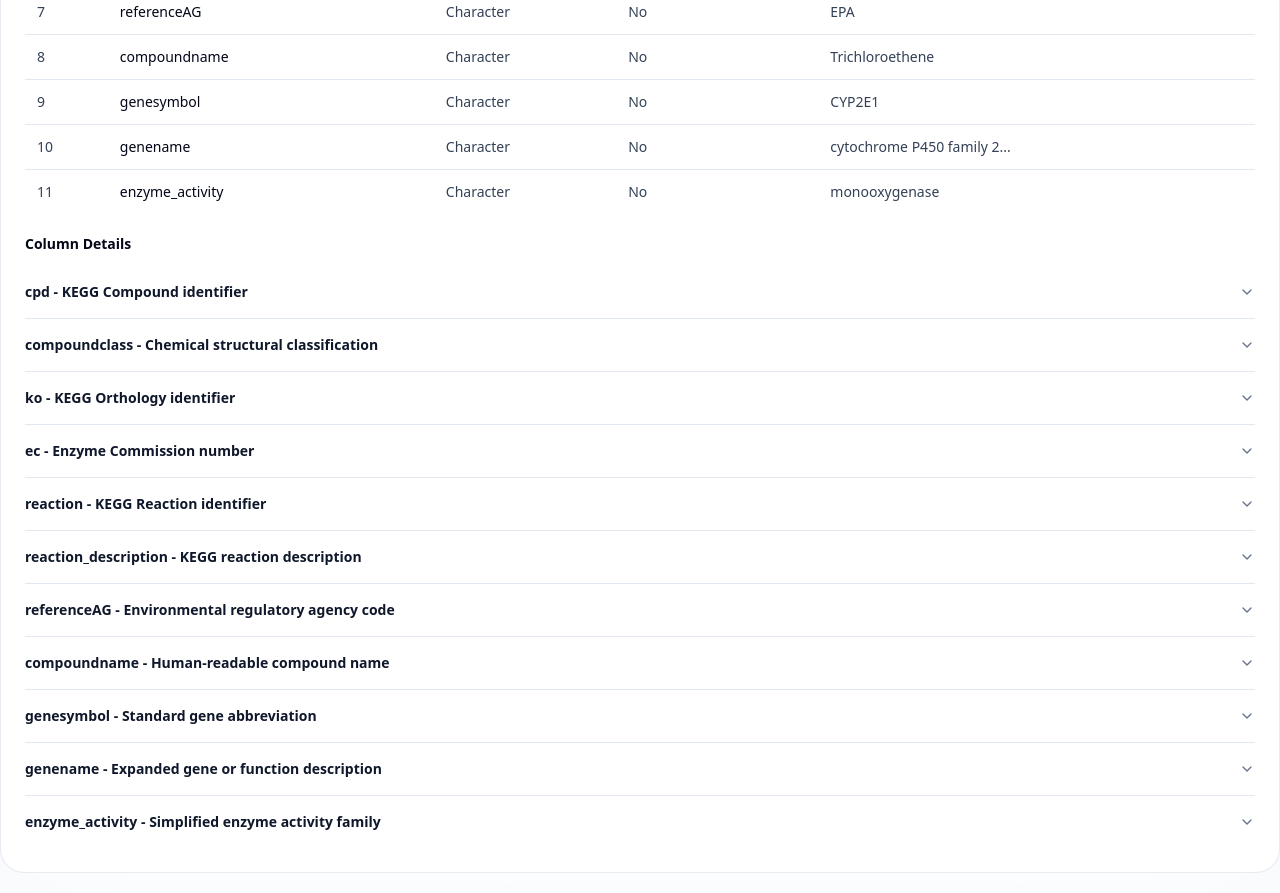
Test: DatabaseSchemaPage › renders the updated BioRemPP schema release metadata and new enrichment columns
This screenshot has width=1280, height=893.
(page scrolled)
What coordinates should you click on to do the following:
click the button "ec - Enzyme Commission number"
I would click on:
 (153, 450)
Its box is [25,424,1255,476].
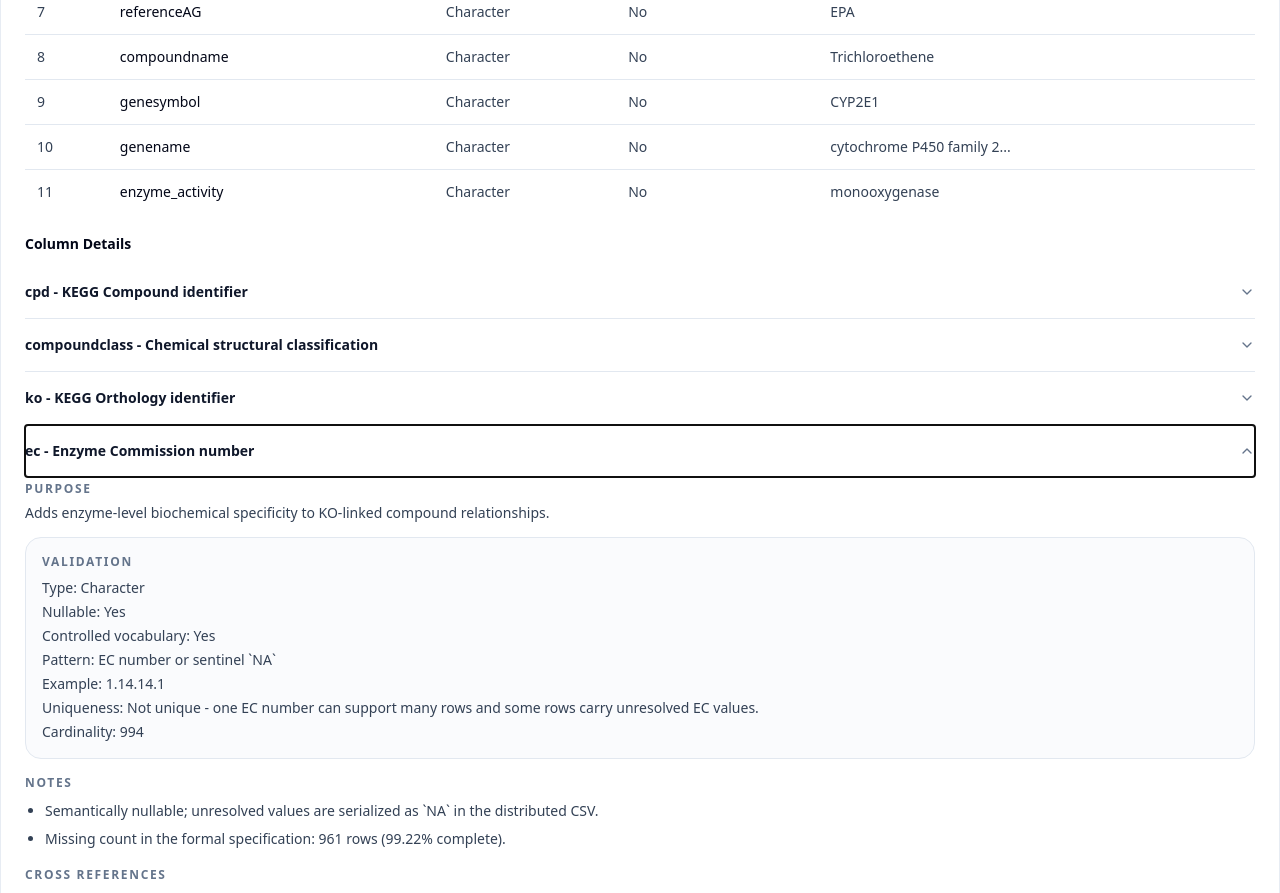
Check: the text "Adds enzyme-level biochemical specificity to KO-linked compound relationships." is shown, box [25,502,550,522]
Check: the list item "Semantically nullable; unresolved values are serialized as" is shown, box [45,800,598,820]
